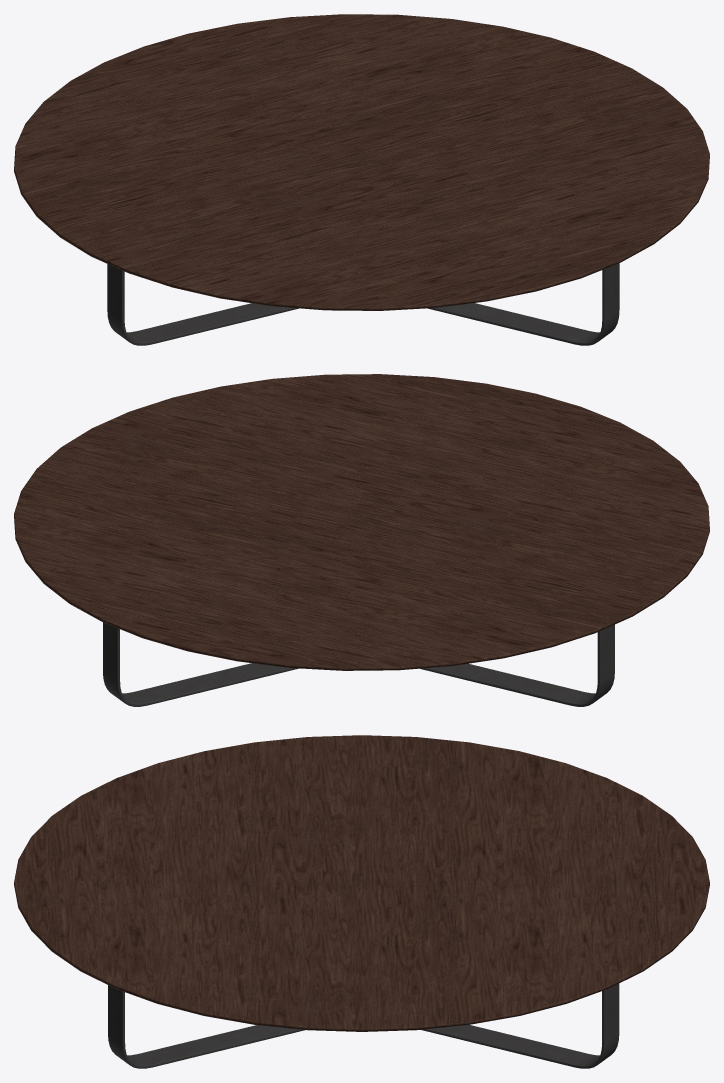
Rendered from mesa_centro.glb.
The picture shows the model from 3 angles, top to bottom: view 1: azimuth 30°, elevation 25°; view 2: azimuth 150°, elevation 25°; view 3: azimuth 270°, elevation 25°; orthographic projection.
Visible parts, largest first — view 1: Cylinder005; view 2: Cylinder005; view 3: Cylinder005.
Part boxes in pixels (bbox=[...]): Cylinder005: bbox=[14, 14, 709, 345]; Cylinder005: bbox=[14, 374, 709, 706]; Cylinder005: bbox=[14, 735, 709, 1068].
Size of the model in its own units: 200 by 40 by 200.
Materials: 1 (1 with a texture image).
